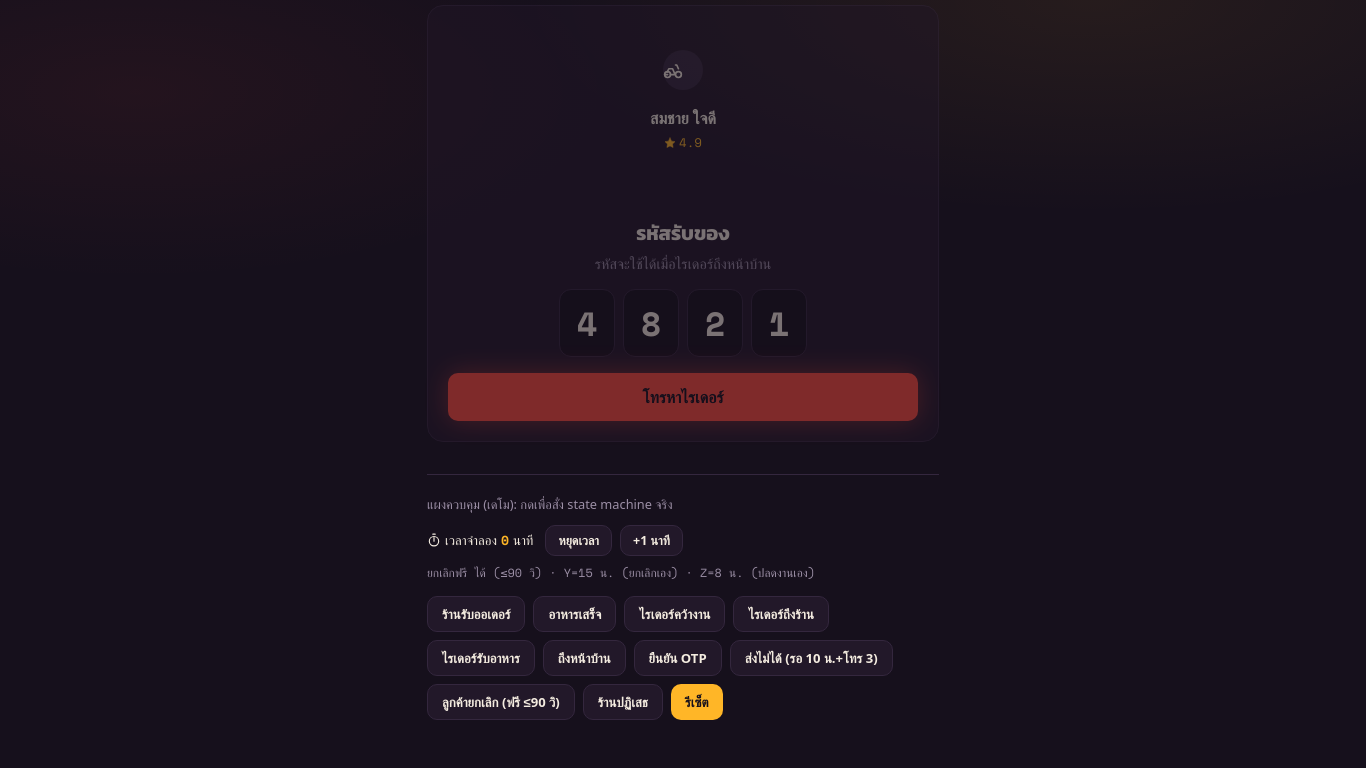
Test: Track — auto-fire ตัวจับเวลา › ยกเลิกฟรีพ้นหน้าต่างแล้ว (เกิน 90 วิจำลอง) → โดเมนปฏิเสธ
The image size is (1366, 768).
(page scrolled)
Step 1. Click the button "หยุดเวลา" → point(579, 540), box [545,525,612,556]
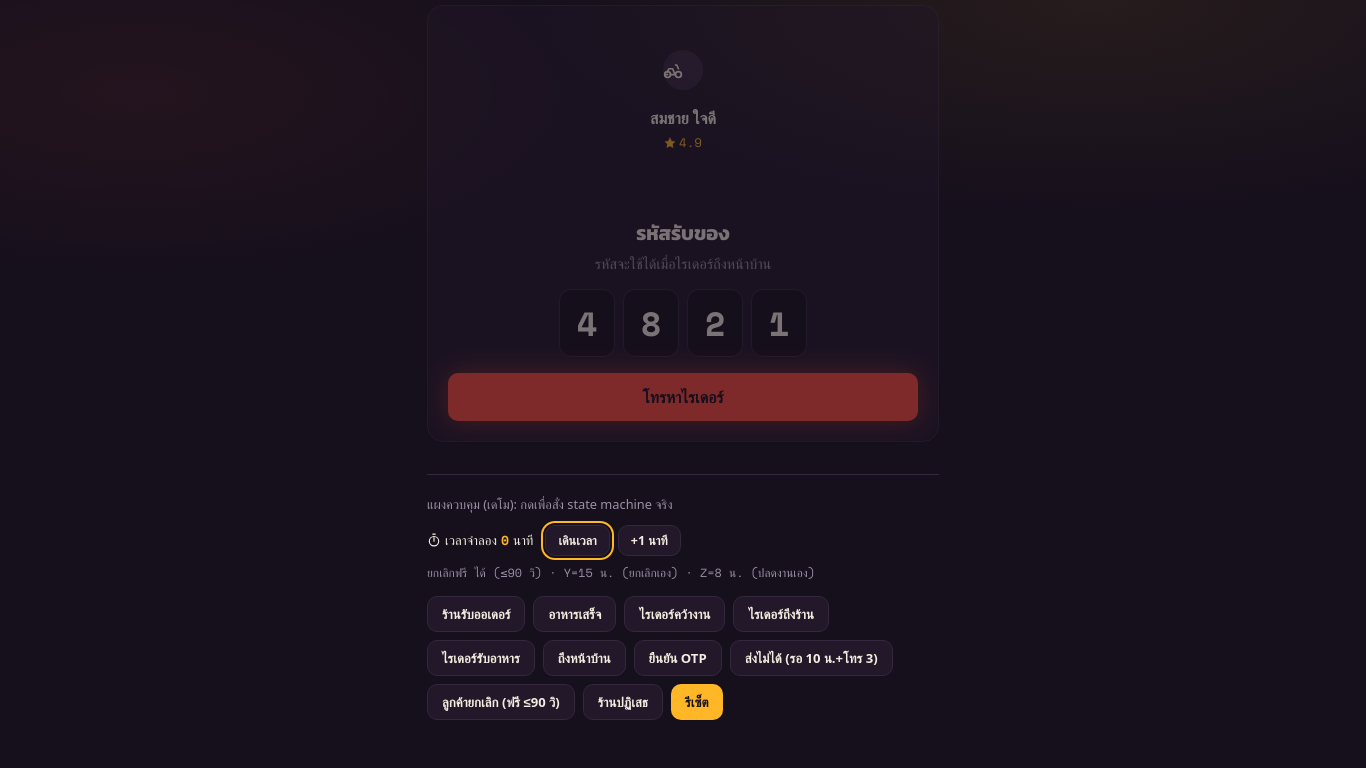
Step 2. Click the button "+1 นาที" → point(649, 540), box [618,525,681,556]
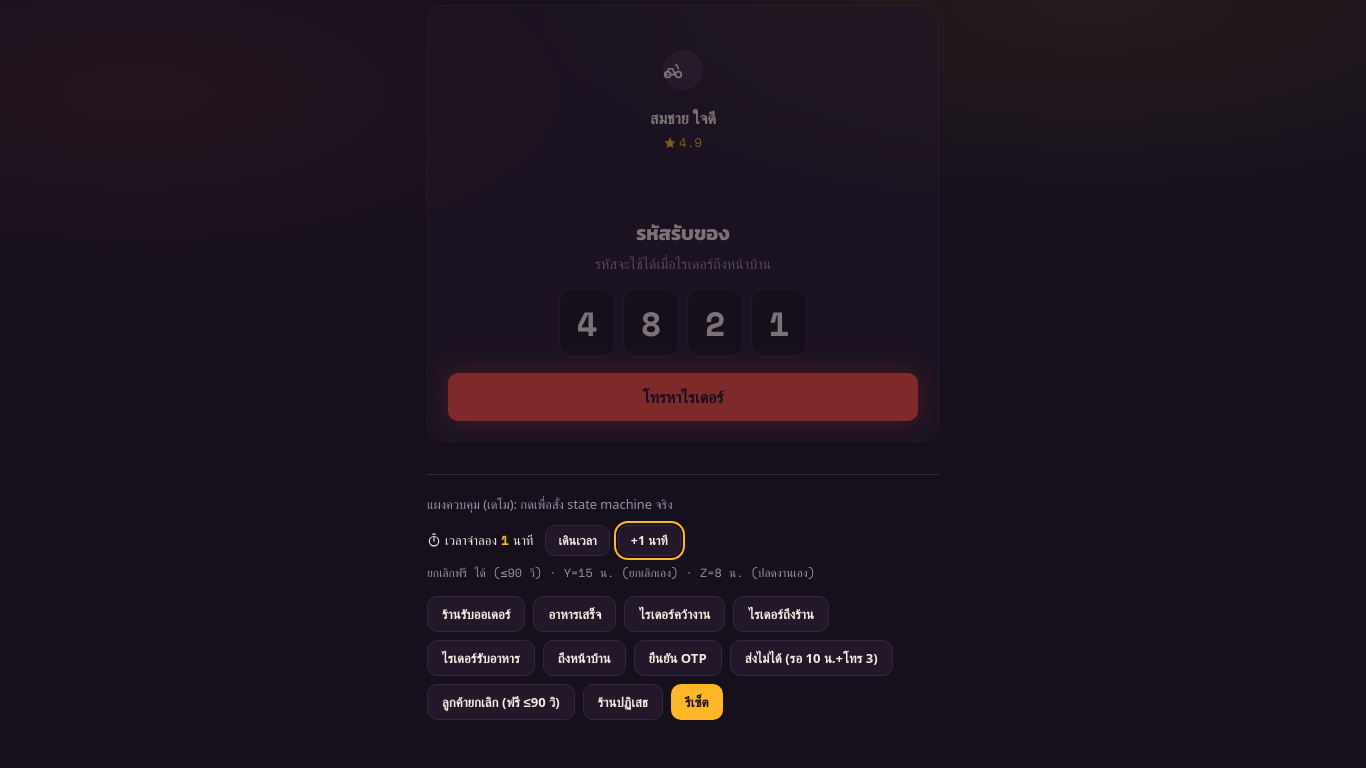
Step 3. Click the button "+1 นาที" → point(649, 540), box [618,525,681,556]
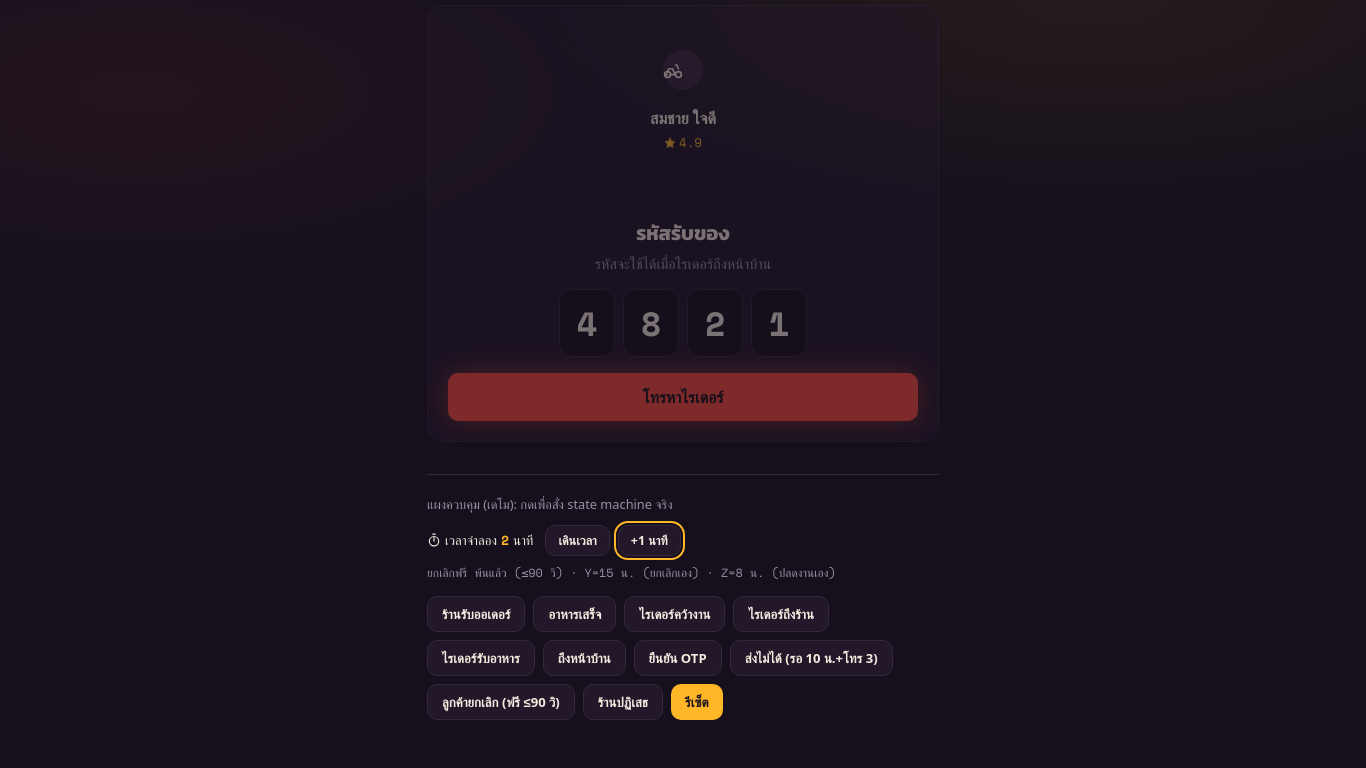
Step 4. Click the button "ลูกค้ายกเลิก (ฟรี ≤90 วิ)" → point(501, 702), box [427,684,575,720]
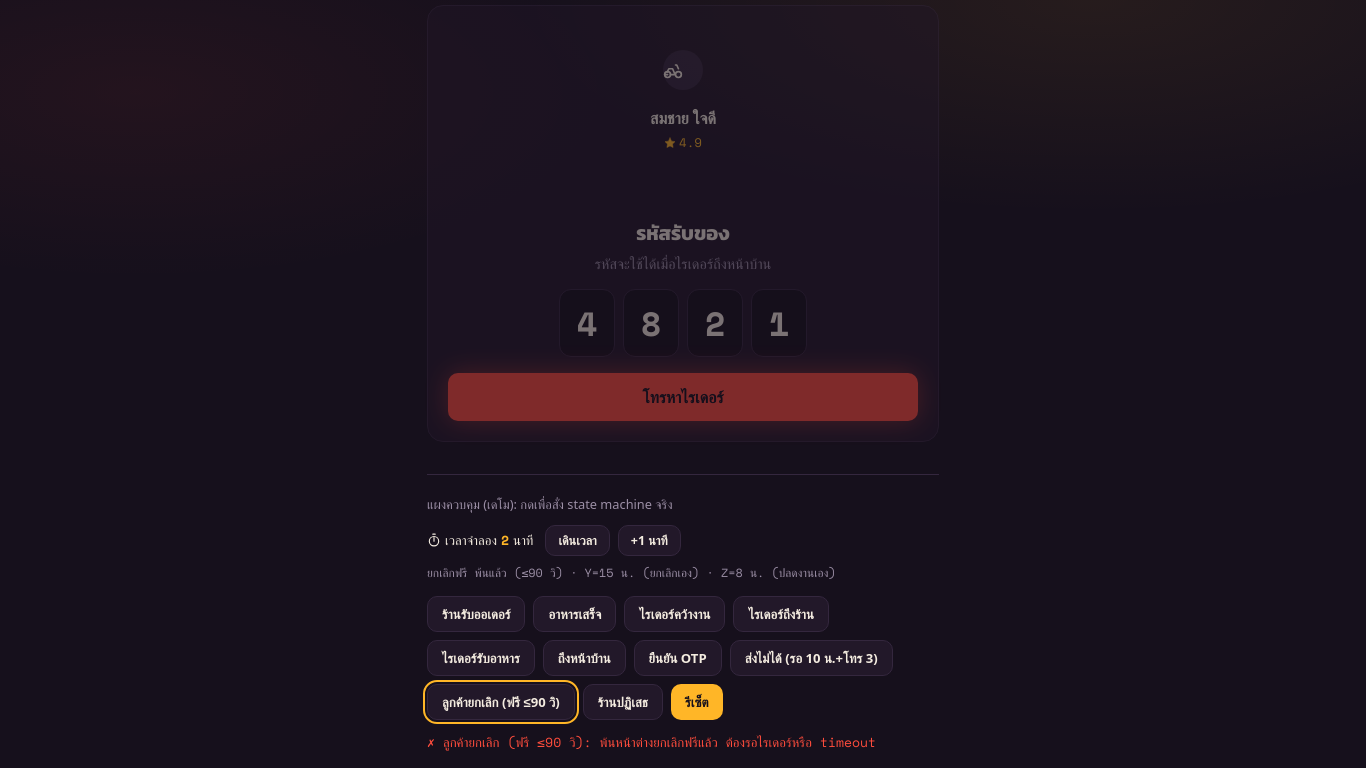
Result: the text "พ้นหน้าต่าง" is shown at [427,732,876,752]
